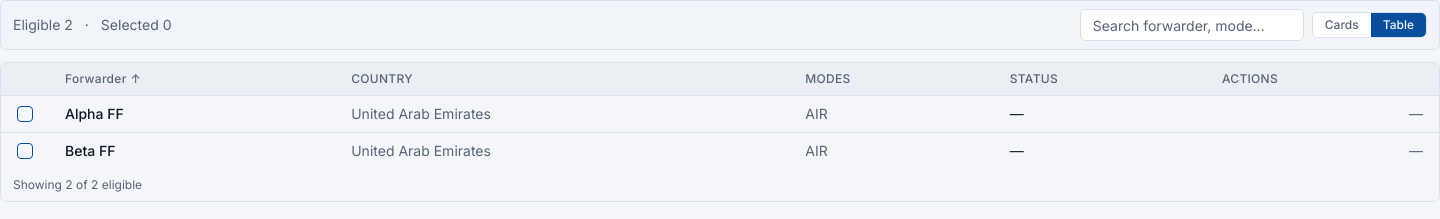
Test: FfSelectionGrid › filters by search text
The image size is (1440, 219).
expect the text "Alpha FF" is shown: met, box [65,105,124,122]
Type "beta" into the field named "search forwarders" at (1192, 25), box [1080,9,1304,41]
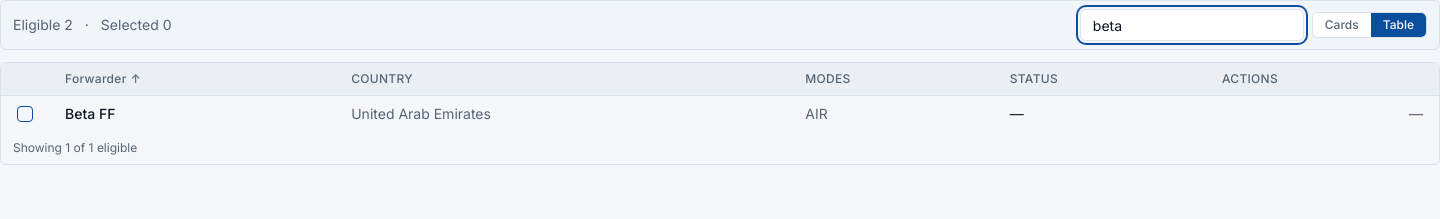
expect the text "Beta FF" is shown: met, box [65,105,115,122]
expect the text "Alpha FF" is gone: met
